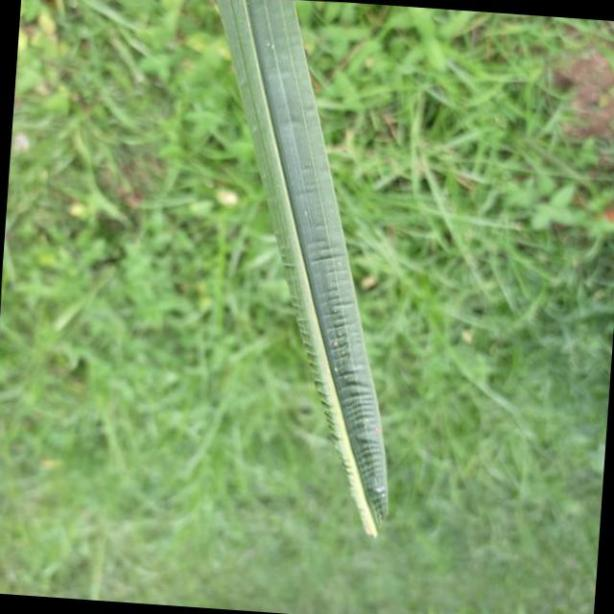Boron: (215, 0, 390, 540)
